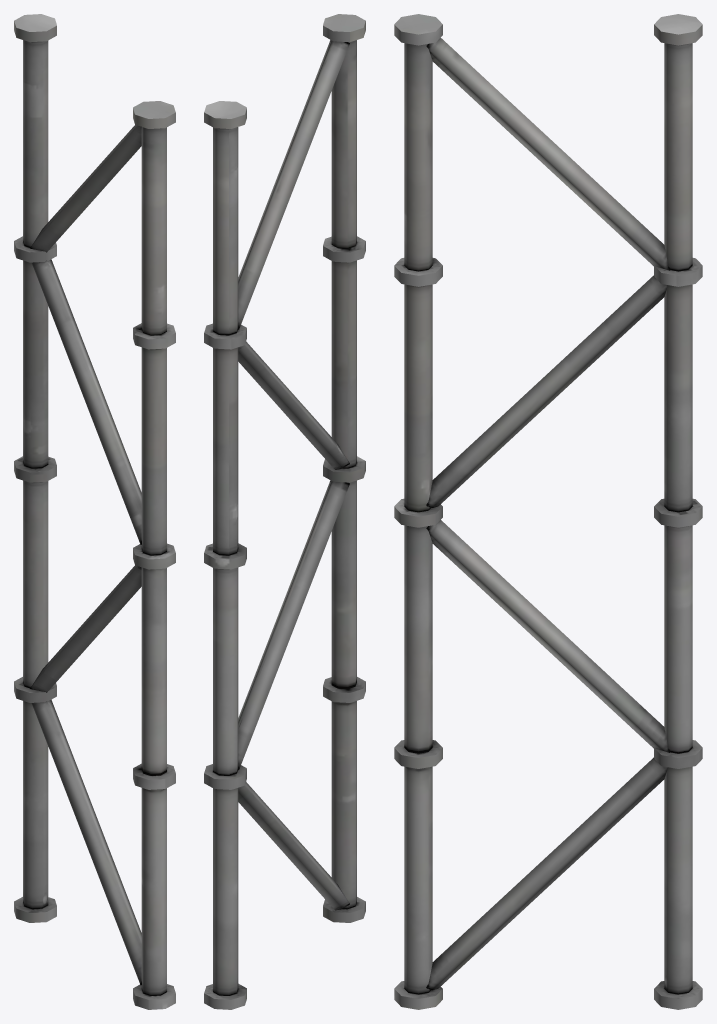
3 views of the same model, side by side, from view 1: azimuth 30°, elevation 25°; view 2: azimuth 150°, elevation 25°; view 3: azimuth 270°, elevation 25° (orthographic). The views are drawn at different scales.
Parts seen in each view (by area): view 1: body0_model0_lod0_mesh0; view 2: body0_model0_lod0_mesh0; view 3: body0_model0_lod0_mesh0.
Part boxes in pixels (x1=…): body0_model0_lod0_mesh0: x1=14, y1=14, x2=175, y2=1009; body0_model0_lod0_mesh0: x1=204, y1=14, x2=365, y2=1009; body0_model0_lod0_mesh0: x1=394, y1=14, x2=702, y2=1009.
Size of the model in its own units: 14.49 by 320 by 91.77.
1 material, 1 textured.
